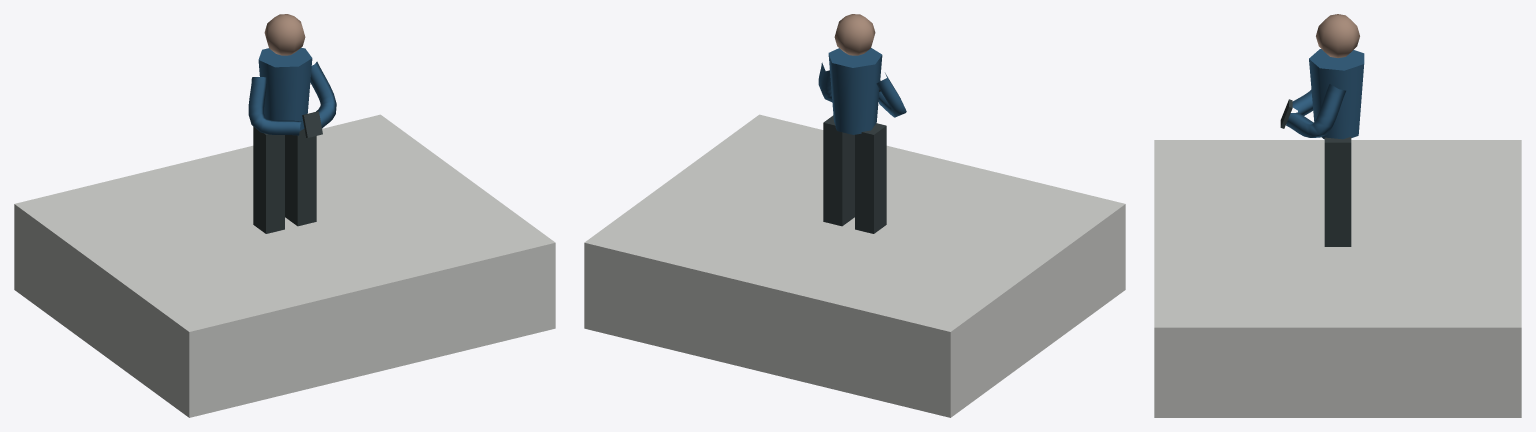
File: resident-v2.glb
3 views of the same model, side by side, from view 1: azimuth 30°, elevation 25°; view 2: azimuth 150°, elevation 25°; view 3: azimuth 270°, elevation 25° (orthographic). The views are drawn at different scales.
Parts seen in each view (by area): view 1: ResidentWithHandheldPhone; view 2: ResidentWithHandheldPhone; view 3: ResidentWithHandheldPhone.
Part boxes in pixels (left/top/right/bottom): ResidentWithHandheldPhone: left=14, top=14, right=555, bottom=417; ResidentWithHandheldPhone: left=584, top=14, right=1125, bottom=417; ResidentWithHandheldPhone: left=1154, top=14, right=1521, bottom=417.
Bounding box in the file's own units: 0.58 × 0.444 × 0.48.
